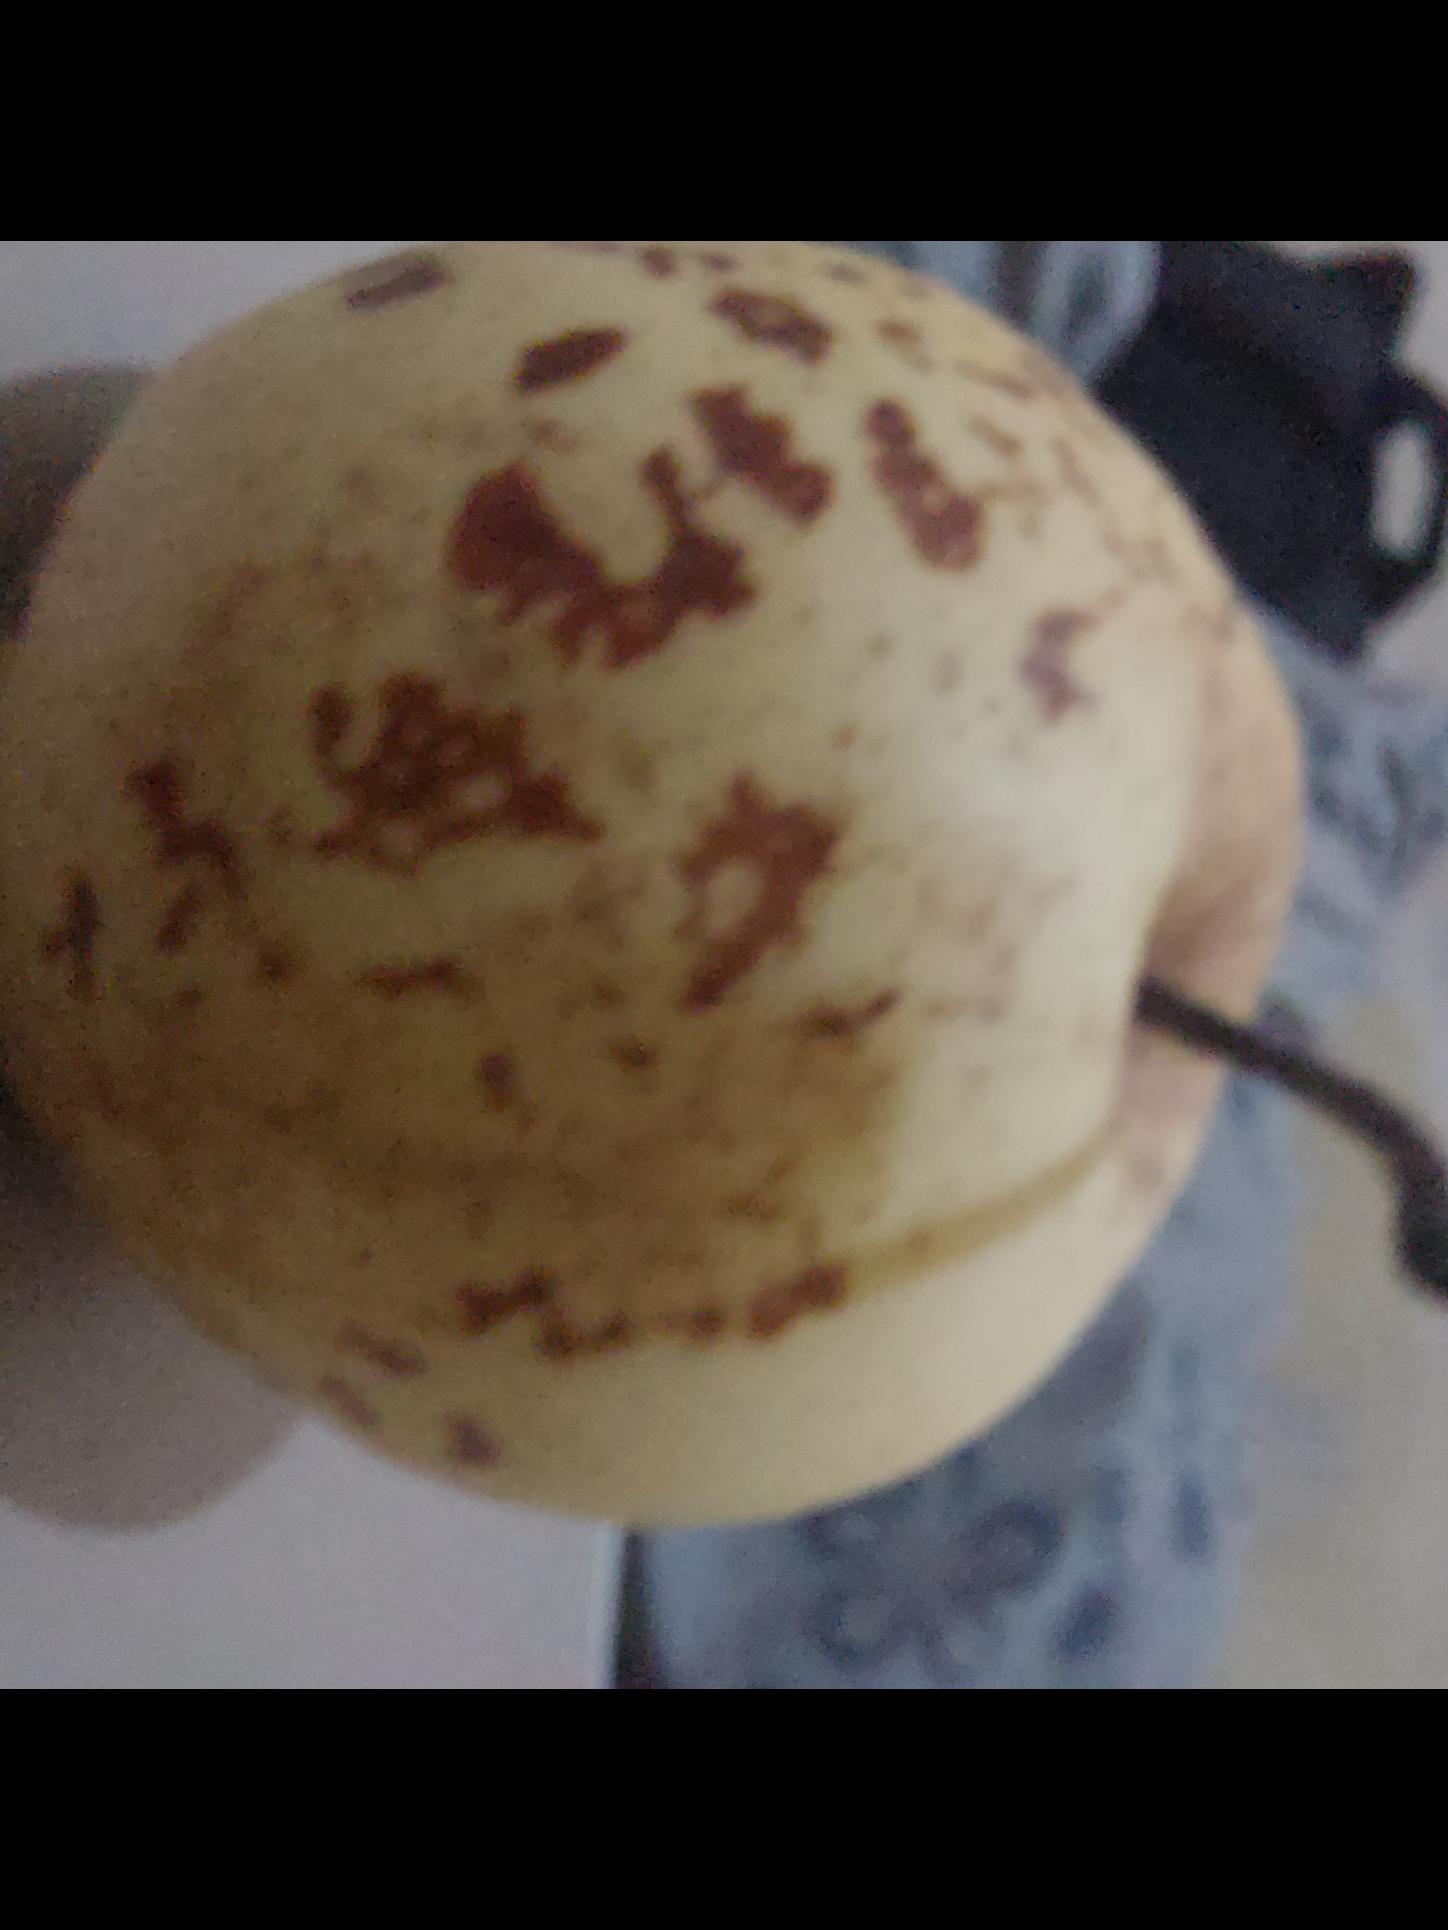Bad Pear: (0, 240, 1319, 1551)
